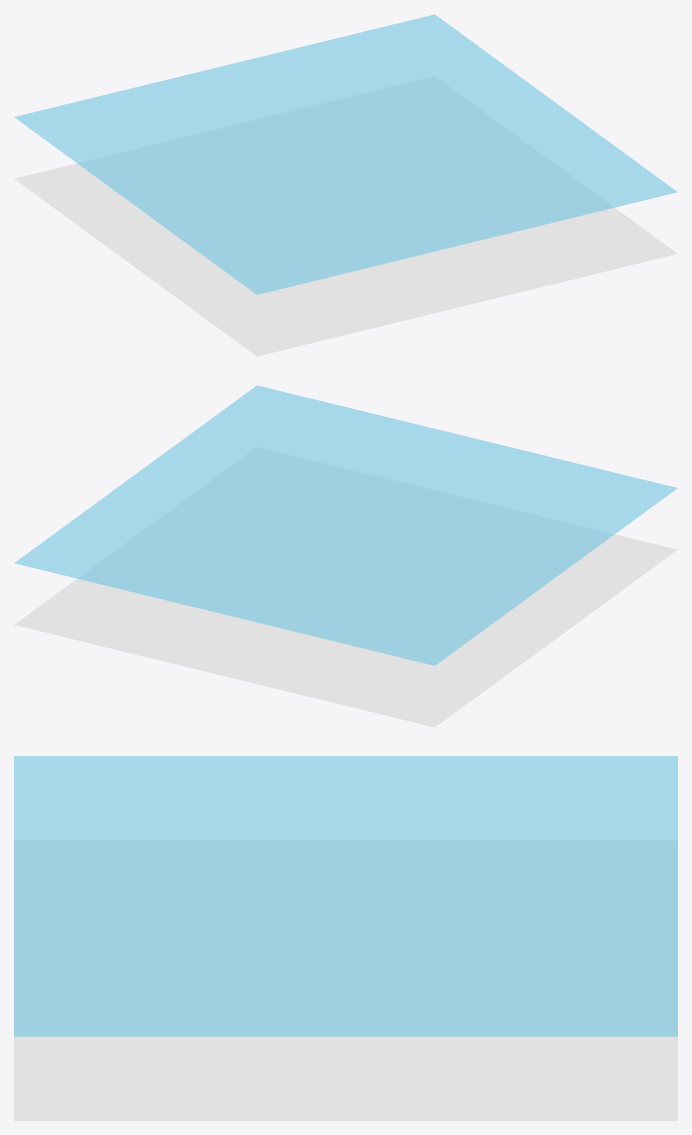
File: fountain-center.glb
3 renders of one model, top to bottom at view 1: azimuth 30°, elevation 25°; view 2: azimuth 150°, elevation 25°; view 3: azimuth 270°, elevation 25°, orthographic. The views are drawn at different scales.
Visible parts, largest first — view 1: (%ignore), fountain-center; view 2: (%ignore), fountain-center; view 3: (%ignore), fountain-center.
Boxes of the visible parts, x1,y1,x2,y2 form: (%ignore): [14, 14, 677, 294]; fountain-center: [14, 76, 677, 356]; (%ignore): [14, 385, 677, 665]; fountain-center: [14, 447, 677, 727]; (%ignore): [14, 756, 677, 1036]; fountain-center: [14, 840, 677, 1120].
Size of the model in its own units: 1 by 0.14 by 1.
